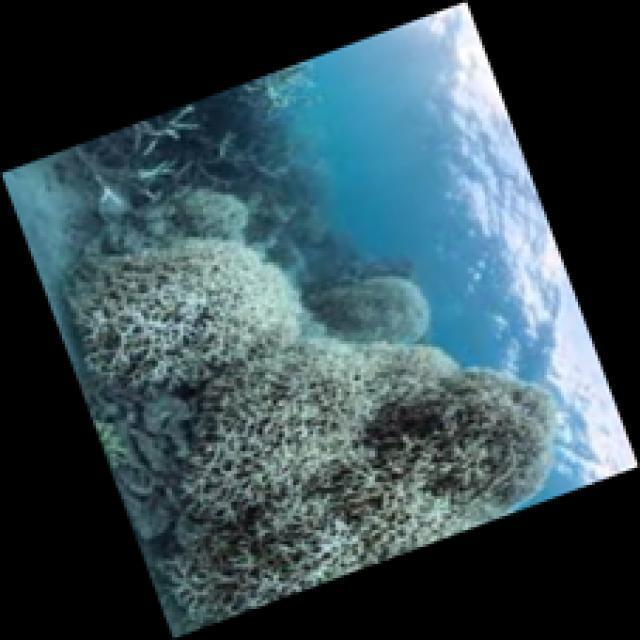Dead Coral: (357, 378, 562, 502), (108, 93, 291, 196)
